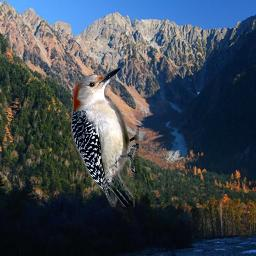Woodpecker: (71, 67, 139, 207)
